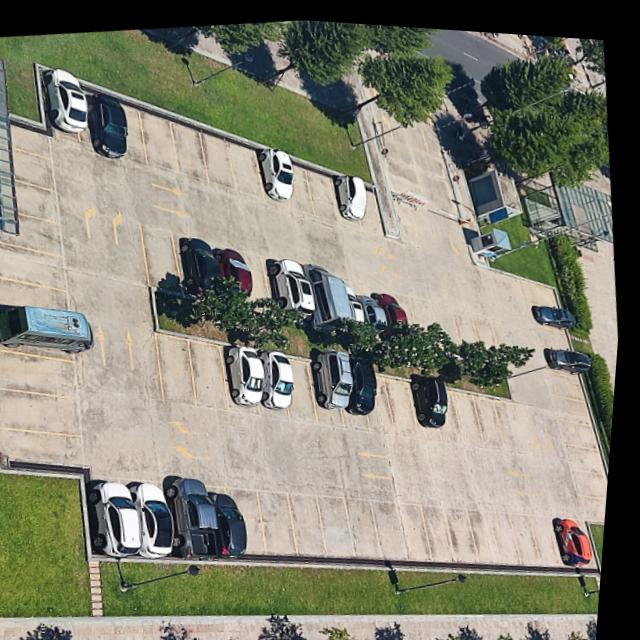car: (0, 304, 98, 353), (170, 473, 227, 555), (94, 478, 149, 557), (133, 478, 181, 556), (305, 259, 355, 326), (42, 68, 88, 131), (270, 255, 319, 314), (87, 91, 129, 157), (214, 488, 254, 554), (317, 343, 358, 405), (229, 342, 269, 403), (182, 234, 224, 291), (415, 367, 453, 422), (264, 346, 298, 406), (260, 143, 295, 197), (351, 351, 382, 410), (561, 509, 598, 558), (219, 245, 256, 291), (333, 169, 369, 215), (374, 286, 410, 331), (550, 340, 596, 365), (360, 289, 391, 326), (535, 297, 578, 321), (348, 279, 368, 316)
freeslot: (0, 384, 93, 436), (0, 346, 89, 399), (0, 239, 75, 292), (155, 327, 205, 405), (0, 205, 70, 259), (139, 218, 188, 292), (189, 333, 236, 410), (1, 425, 92, 464), (258, 484, 310, 552), (229, 480, 278, 551), (0, 173, 66, 225), (231, 242, 279, 310), (0, 140, 62, 192), (291, 484, 337, 553), (320, 485, 365, 554), (167, 116, 213, 183), (136, 106, 183, 171), (0, 273, 76, 313), (348, 489, 393, 554), (196, 126, 241, 190), (284, 351, 325, 421), (374, 491, 416, 555), (385, 369, 426, 434), (113, 95, 152, 163), (399, 493, 442, 554), (447, 495, 489, 557), (227, 134, 267, 198), (454, 382, 494, 443), (0, 119, 55, 163), (366, 365, 403, 430), (470, 497, 510, 557), (490, 500, 532, 557), (424, 494, 463, 555), (304, 161, 343, 221), (495, 389, 534, 446), (473, 385, 511, 443), (511, 503, 551, 558), (410, 290, 447, 348), (284, 155, 319, 215), (533, 503, 571, 558), (438, 380, 472, 439), (453, 305, 489, 356), (472, 308, 506, 361), (546, 359, 593, 395), (567, 433, 615, 468), (551, 383, 599, 418), (357, 177, 388, 231), (434, 303, 469, 349), (559, 409, 606, 443), (520, 269, 565, 303), (572, 457, 615, 491), (533, 314, 577, 345), (579, 483, 614, 514)
